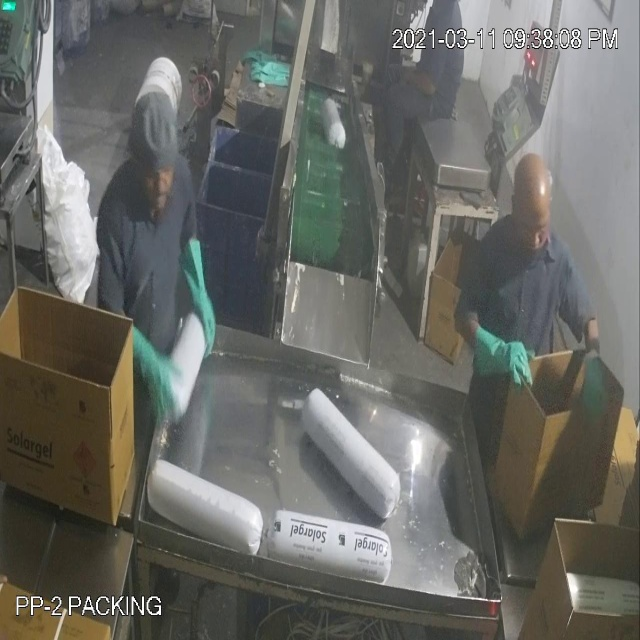Guantes: (114, 307, 178, 428), (467, 311, 536, 404), (181, 226, 220, 376), (580, 324, 611, 439)
Sin_guantes: (398, 49, 446, 108)
